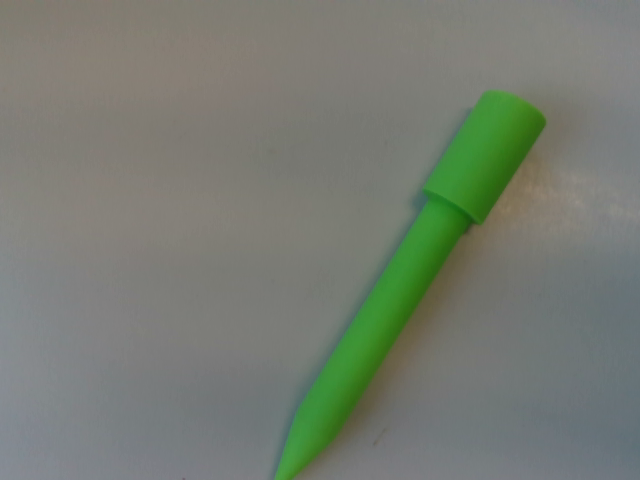Probe: (271, 83, 553, 480)
